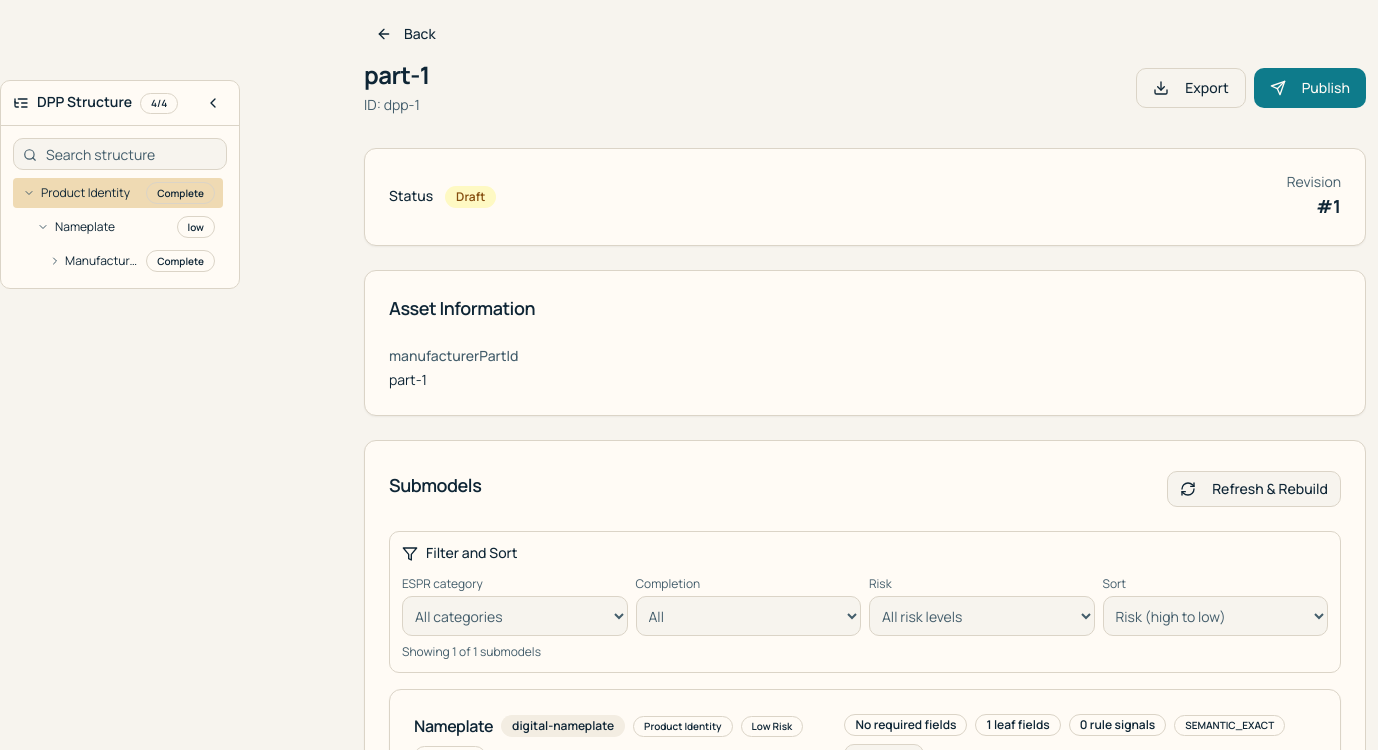
DPPEditorPage outline integration › navigates to submodel editor with focus query params when a tree node is selected
Click the list item "ManufacturerData Complete" at x=118, y=261, box [13, 246, 223, 276]
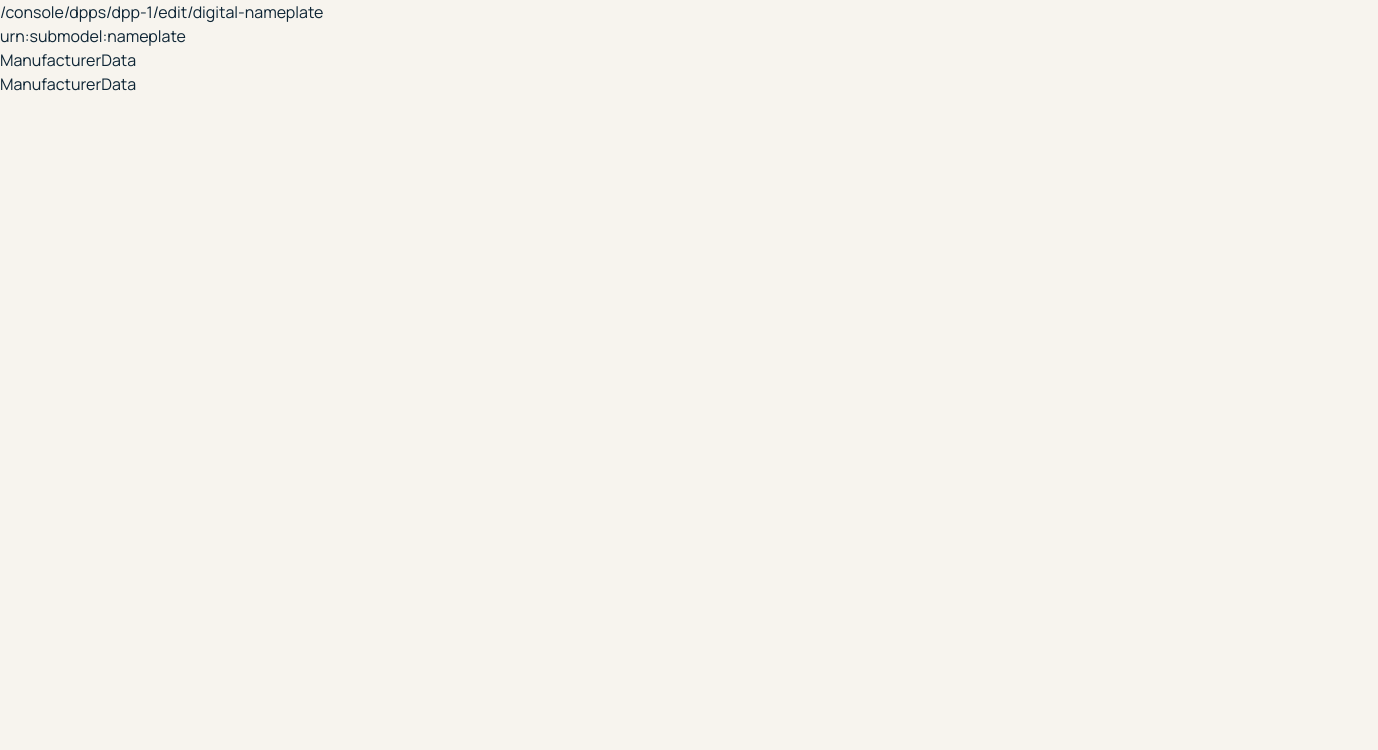
Result: the text with test id "dest-path" reads "/console/dpps/dpp-1/edit/digital-nameplate" at [0, 1, 323, 23]
Result: the text with test id "dest-focus-path" reads "ManufacturerData" at [0, 49, 136, 71]
Result: the text with test id "dest-focus-id-short" reads "ManufacturerData" at [0, 73, 136, 95]
